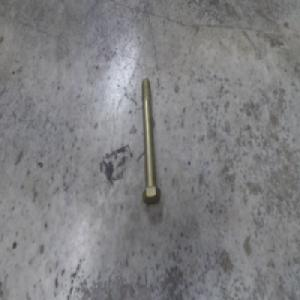Bolt: (139, 77, 161, 204)
